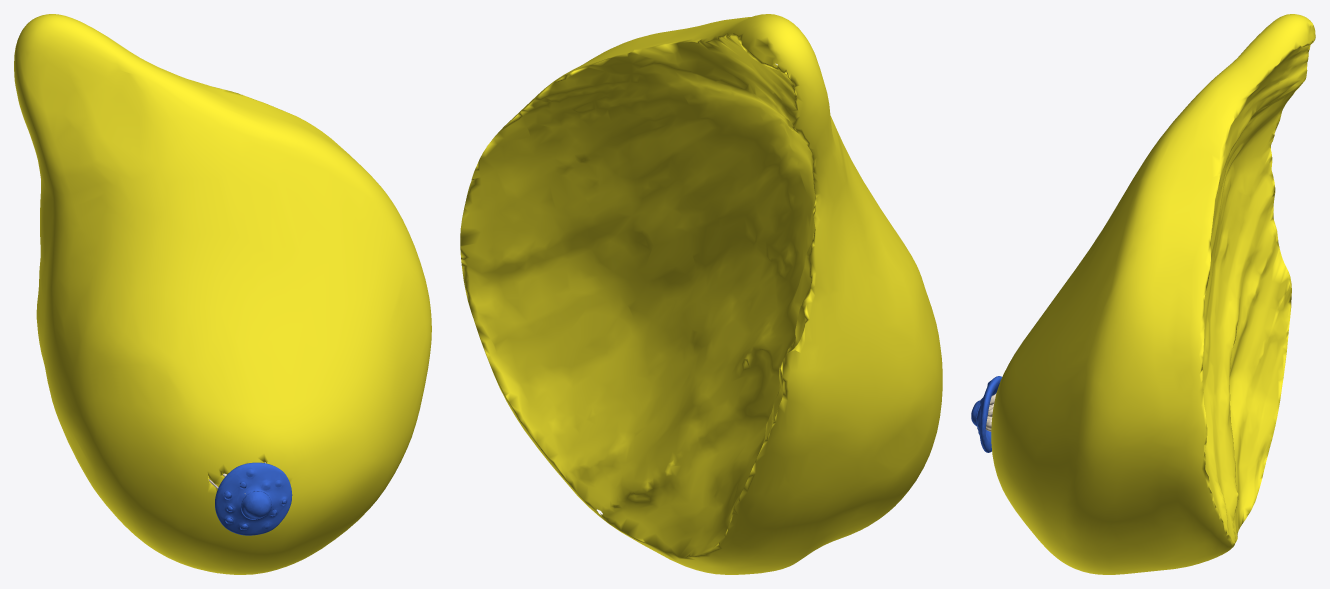
Rendered from 3d-vh-f-mammary-gland-r-20.glb.
The picture shows the model from 3 angles, left to right: view 1: azimuth 30°, elevation 25°; view 2: azimuth 150°, elevation 25°; view 3: azimuth 270°, elevation 25°; orthographic projection. The views are drawn at different scales.
Visible parts, largest first — view 1: VH_F_fat_R, VH_F_areola_R, VH_F_nipple_R; view 2: VH_F_fat_R; view 3: VH_F_fat_R, VH_F_areola_R.
Boxes of the visible parts, x1=… form: VH_F_fat_R: x1=14, y1=14, x2=431, y2=574; VH_F_areola_R: x1=215, y1=462, x2=292, y2=535; VH_F_nipple_R: x1=241, y1=491, x2=271, y2=519; VH_F_fat_R: x1=460, y1=14, x2=942, y2=574; VH_F_fat_R: x1=991, y1=14, x2=1315, y2=574; VH_F_areola_R: x1=976, y1=376, x2=1001, y2=452.
Size of the model in its own units: 0.1283 by 0.18 by 0.1132.
